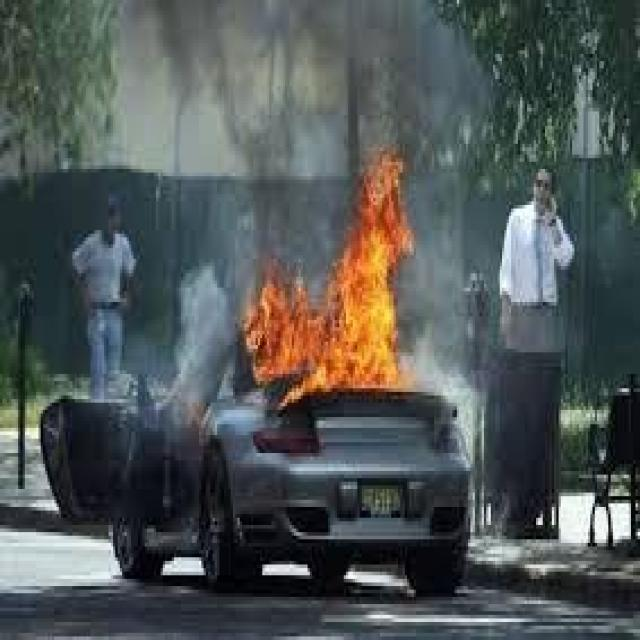fire: (245, 151, 428, 399)
